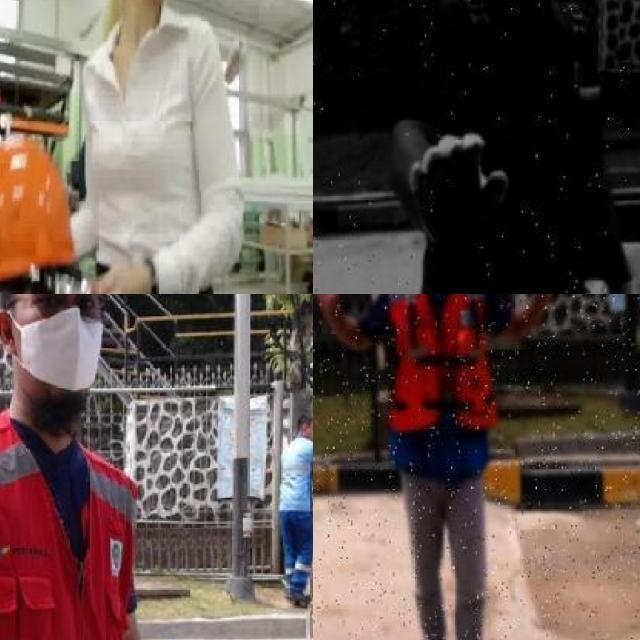apron: (406, 133, 516, 250)
